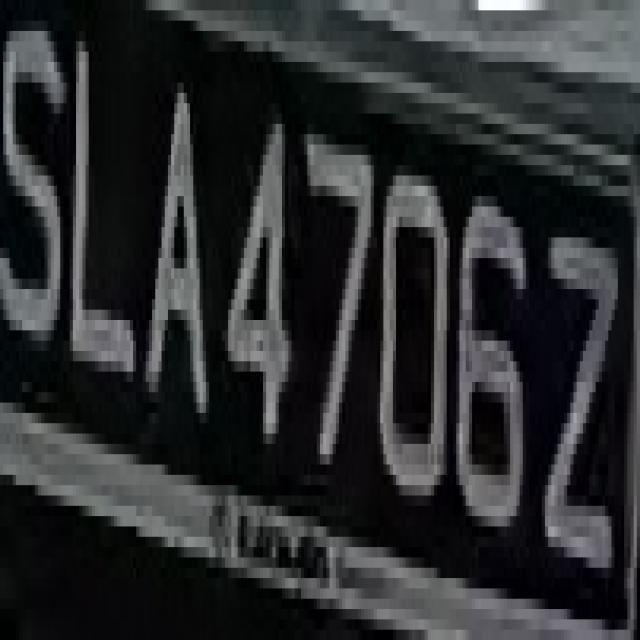0: (374, 144, 453, 526)
4: (219, 62, 301, 495)
6: (447, 155, 526, 537)
7: (292, 103, 377, 485)
A: (136, 41, 219, 454)
L: (66, 10, 140, 413)
S: (0, 0, 67, 372)
Z: (536, 165, 628, 609)
